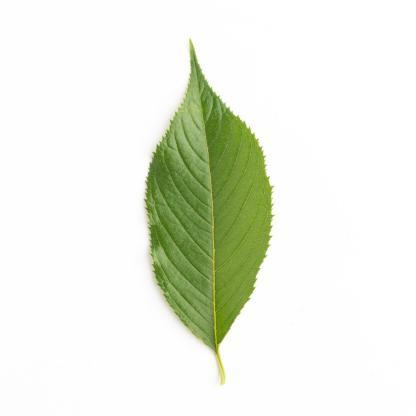Cherry leaf: (135, 31, 284, 396)
